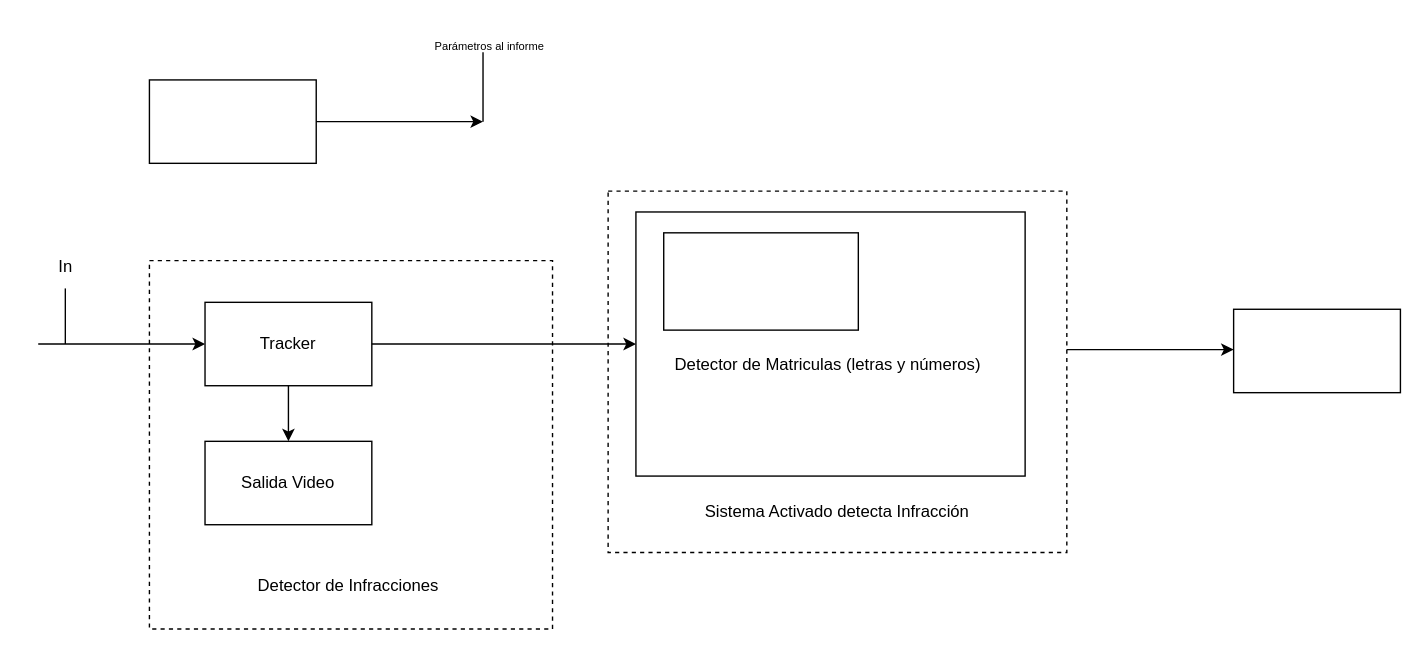
Image size: 1425x653. Some labels were removed from this diagram. The centre of each missing label's shape, as x and y in pixels:
"Calibración" goes at point (232, 121).
"Detector de Rectángulos (matrículas)" goes at point (760, 280).
"Matricula" goes at point (1316, 350).
